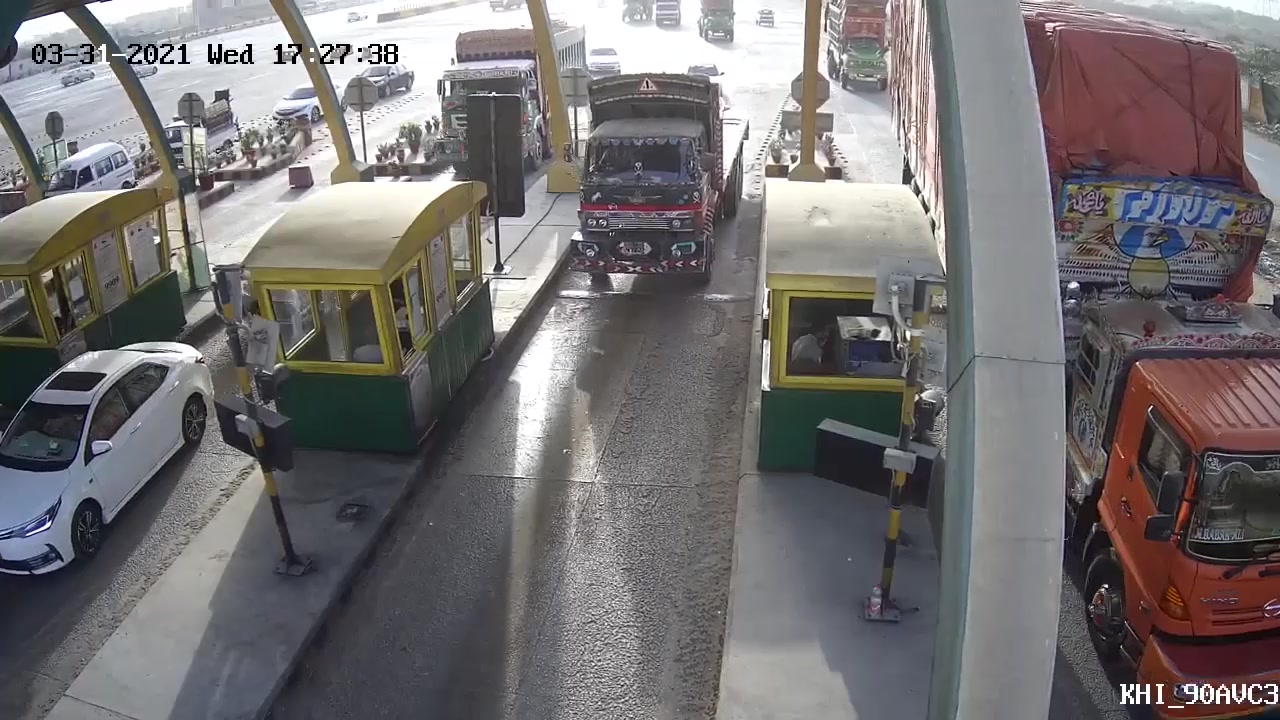F5: (574, 69, 752, 287)
